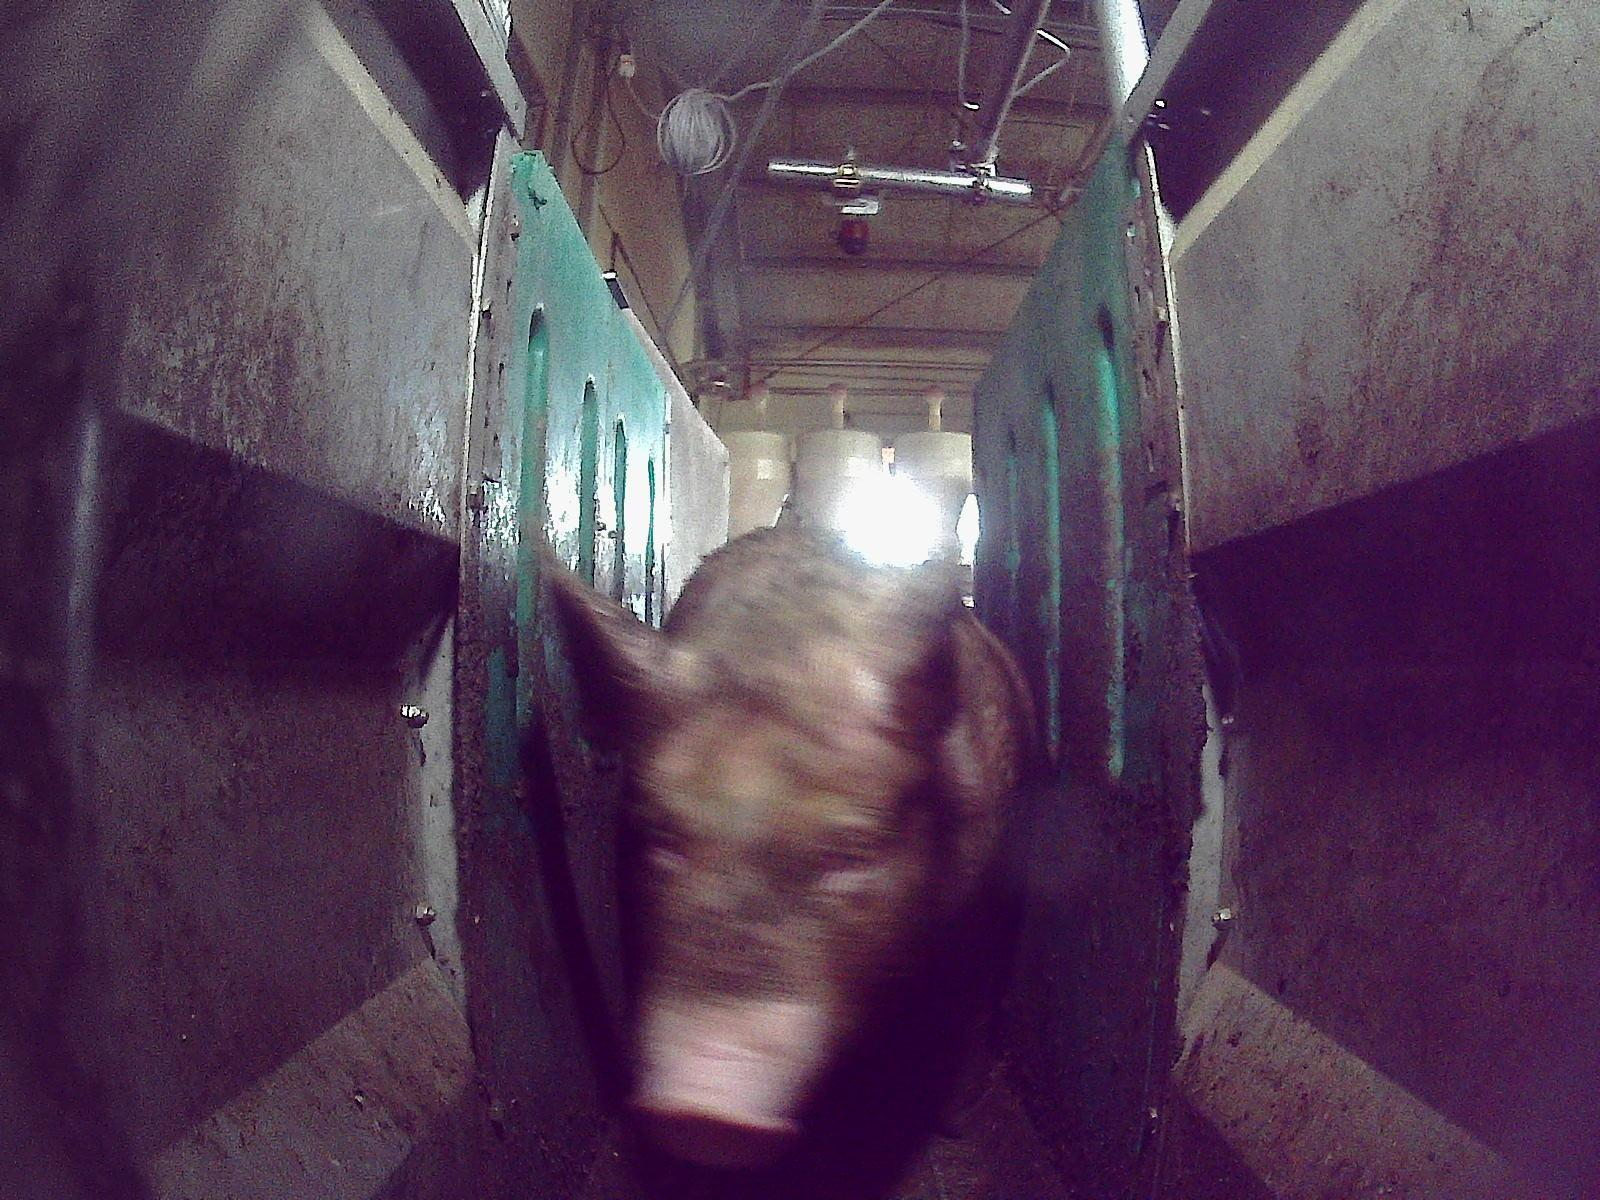Face: (625, 669, 932, 1164)
